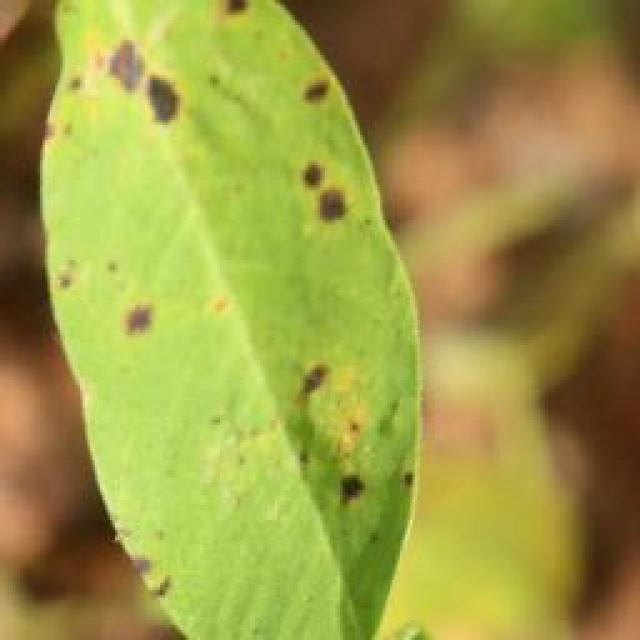Yellowish: (5, 0, 445, 605)
